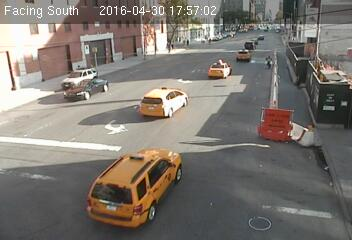neg: (212, 99, 231, 124), (262, 49, 275, 66)
pos: (167, 38, 176, 50)
